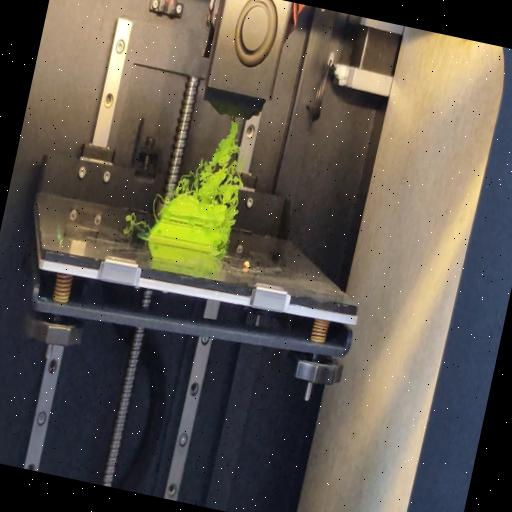spaghetti: (170, 110, 256, 208), (218, 205, 238, 256), (122, 212, 150, 236), (148, 192, 166, 222)
